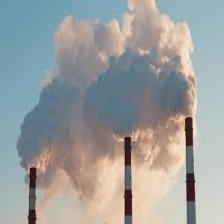smoke: (14, 4, 198, 127)
